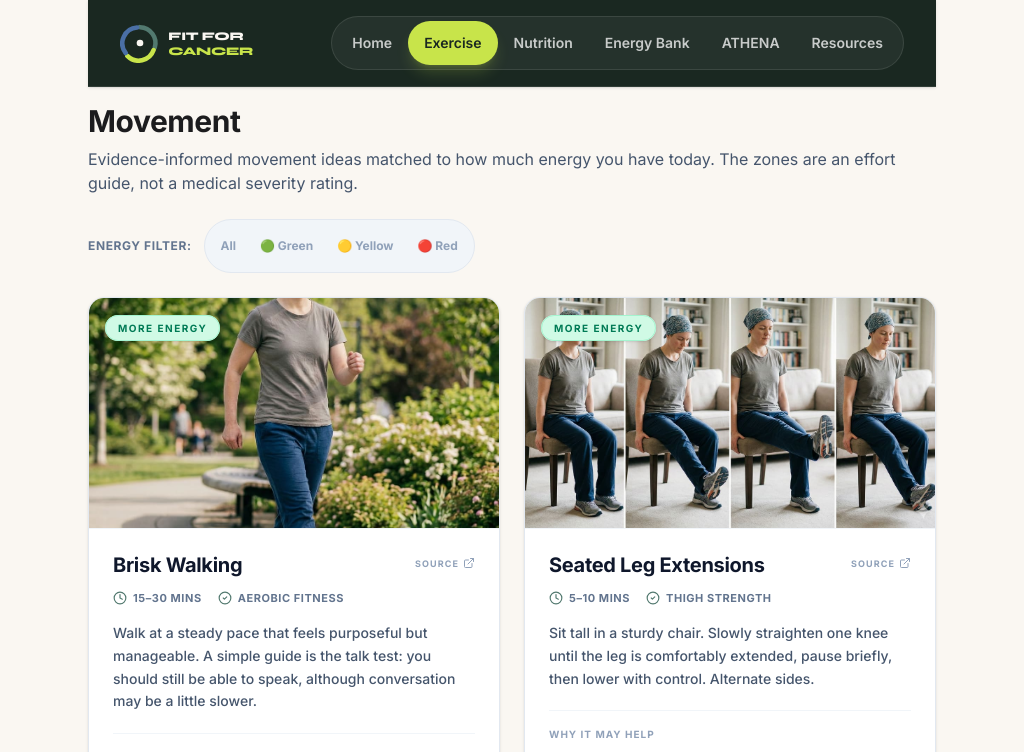
Scenario: App.tsx — smoke › updates the exercise zone filter
expect the heading "Brisk Walking" is shown: met, box 113,553 -> 242,578
Click the radio button labelled "🔴 Red".
click(438, 246)  # box 406,224 -> 470,268
(page scrolled)
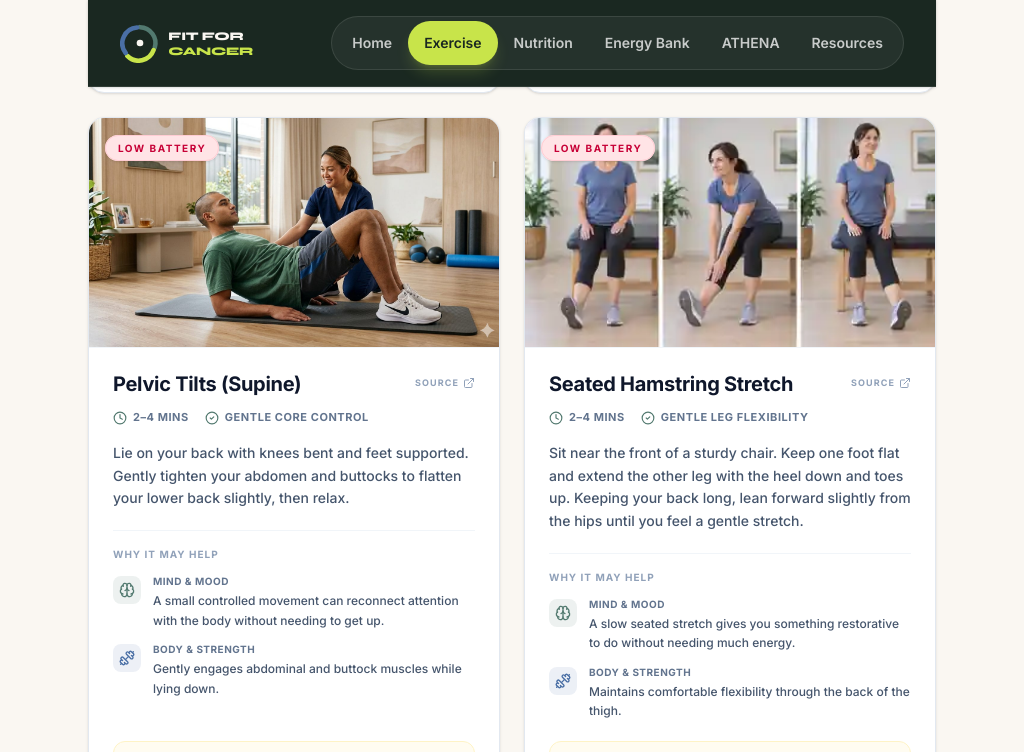
expect the heading "Seated Hamstring Stretch" is shown: met, box 549,372 -> 793,397
expect the heading "Brisk Walking" is gone: met
